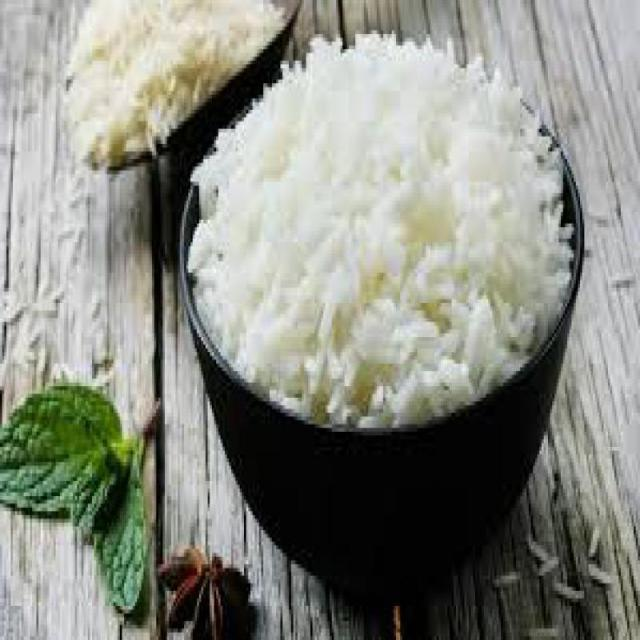nasi_putih: (187, 28, 573, 430)
